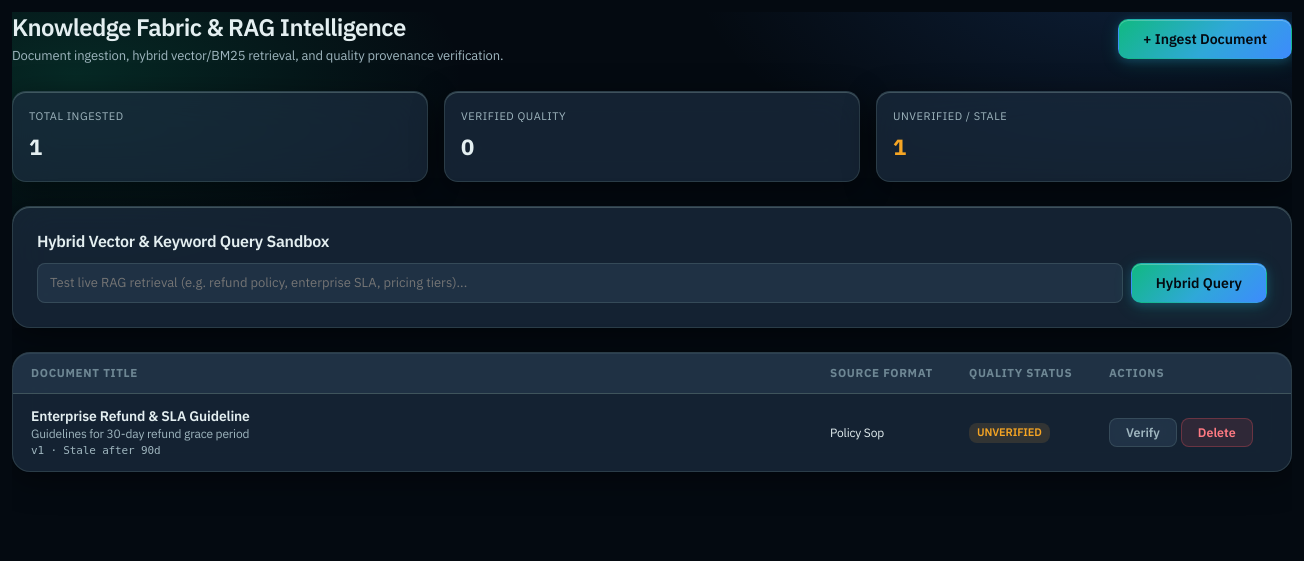
Test case: KnowledgeCenter Page › allows verifying a document quality status
This screenshot has width=1304, height=561.
Click the button "Verify" at (1143, 433), box [1109, 418, 1177, 447]
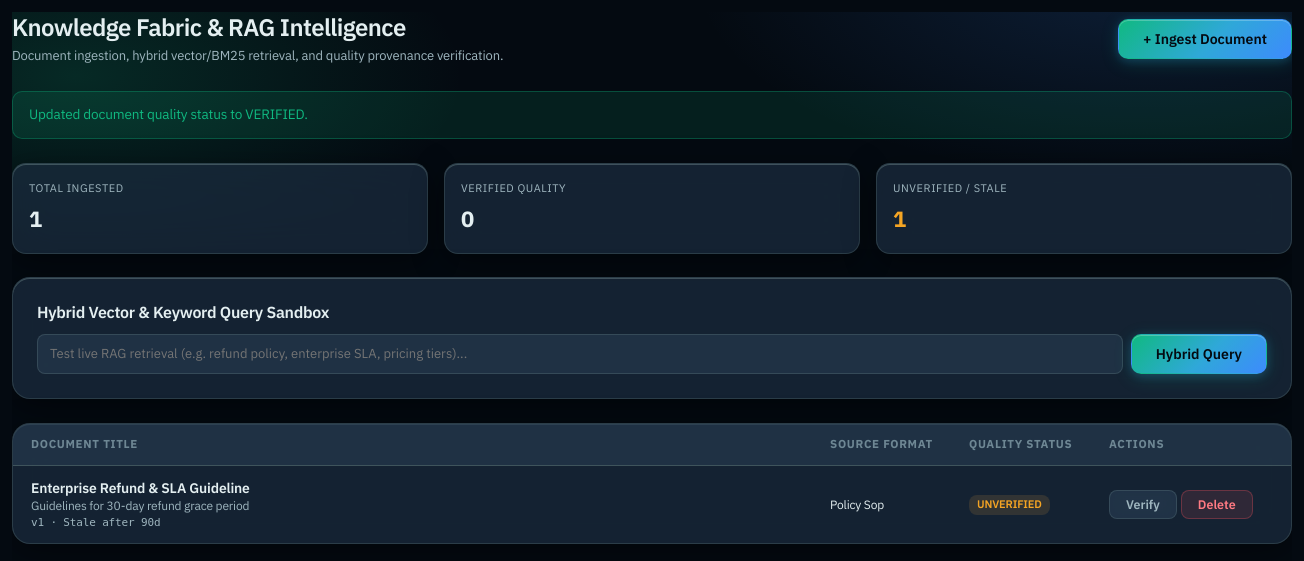
Expected: the text "Updated document quality status to VERIFIED." is shown, [12, 91, 1292, 139]
